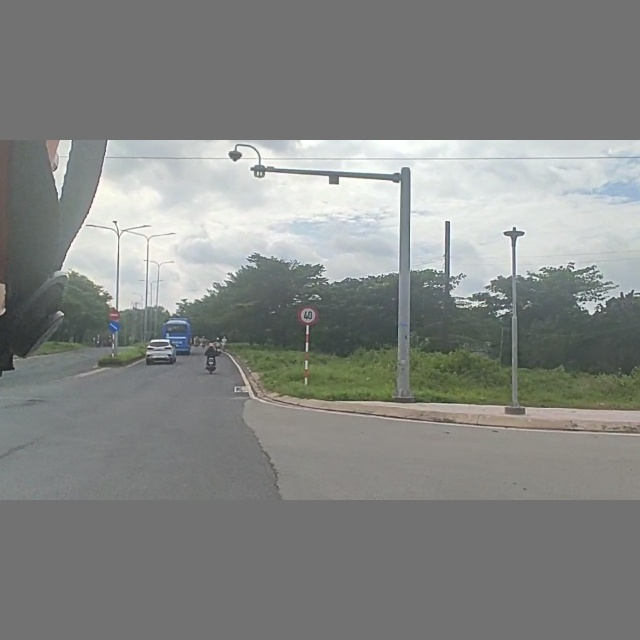P.102: (106, 308, 121, 321)
P.127*40: (297, 303, 321, 326)
R.302a: (105, 321, 124, 334)
